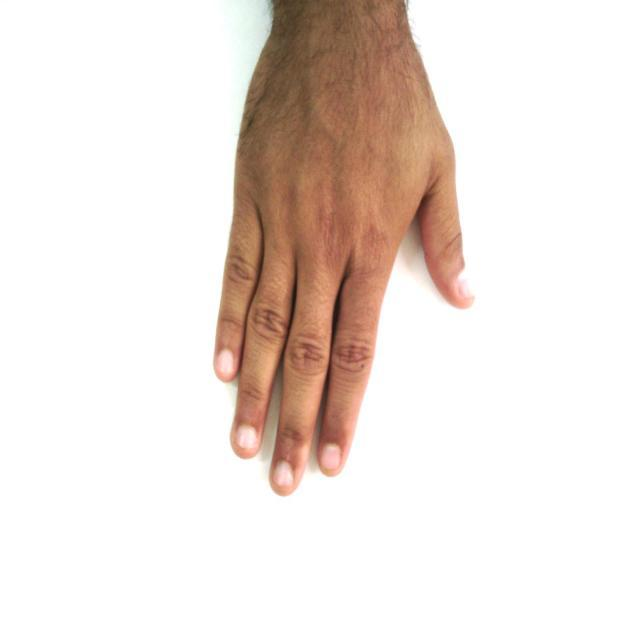Fingernail: (321, 445, 341, 473), (274, 463, 293, 489), (239, 426, 257, 450), (217, 351, 234, 375), (458, 276, 475, 298)
